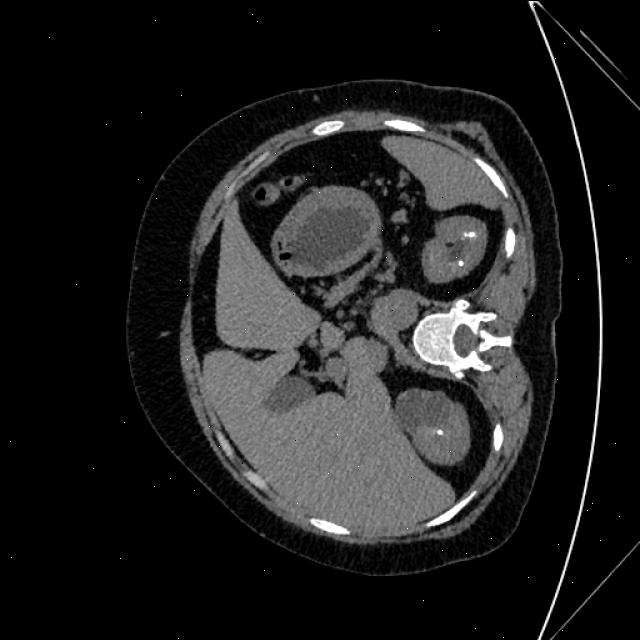kidneystone: (464, 231, 476, 236), (458, 259, 464, 266), (436, 430, 443, 435)
